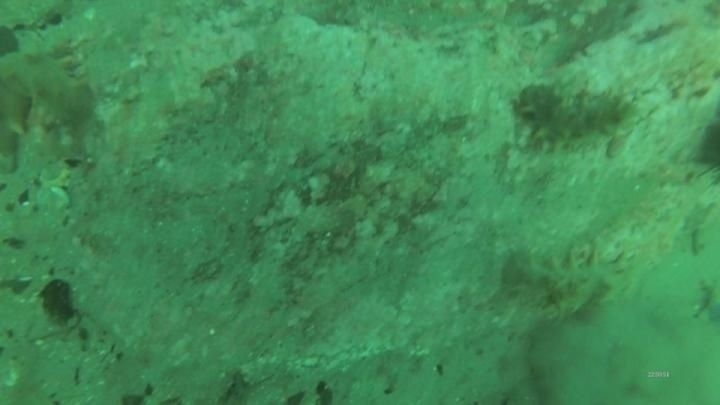echinus: (691, 117, 720, 183)
holothurian: (0, 46, 94, 156), (502, 245, 641, 318), (513, 79, 638, 152)
